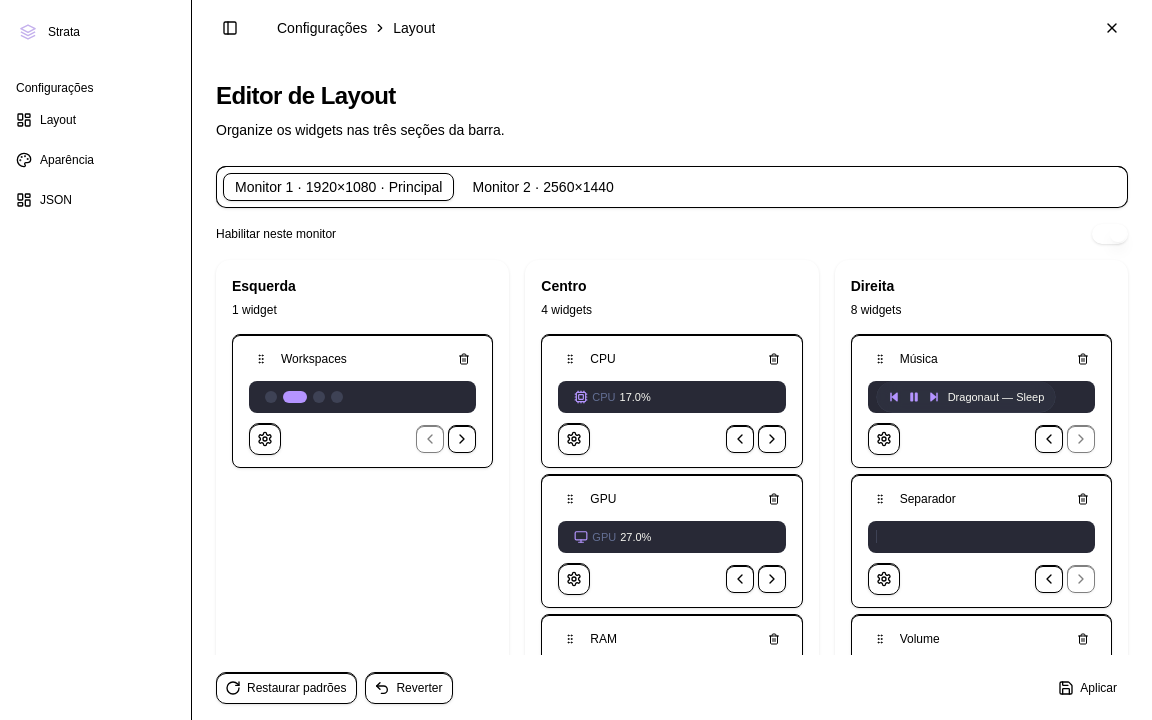
Test: shows a native rejection in the validation alert and blocks Apply until edited
Step 1. Click the button "Aplicar" → {"x": 1089, "y": 688}, box [1049, 672, 1128, 704]
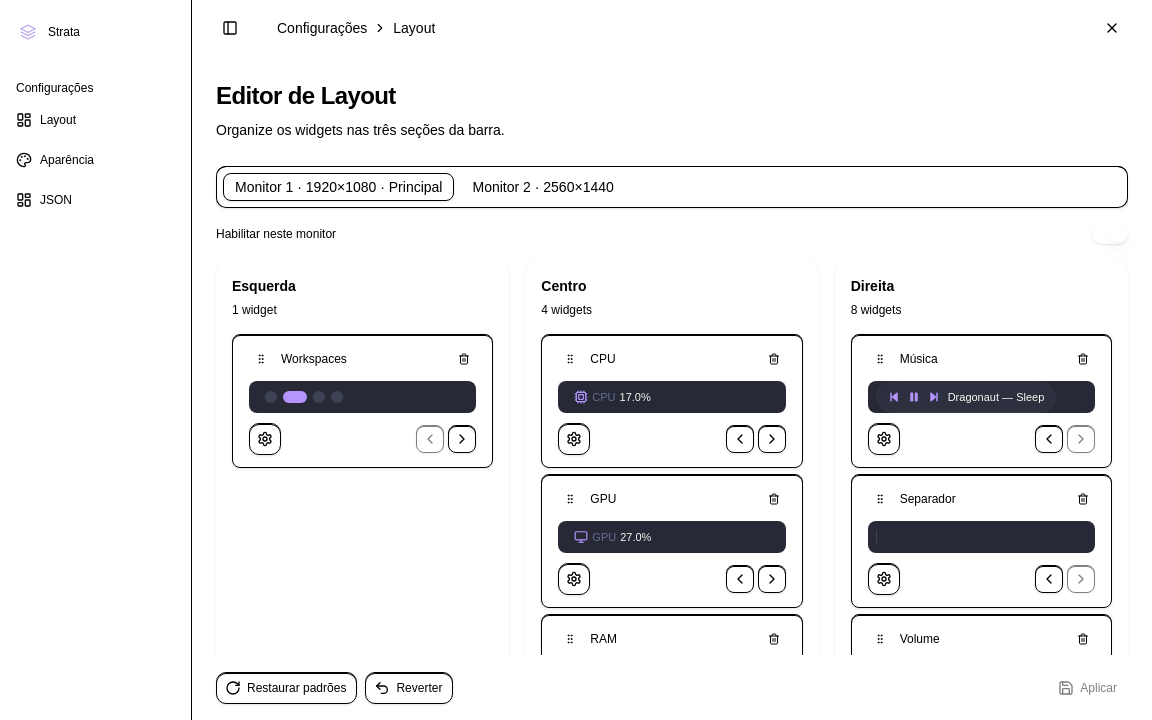
expect the button "Aplicar" is disabled: met, box [1049, 672, 1128, 704]
Step 2. Click the button "Aparência" → {"x": 96, "y": 160}, box [8, 144, 183, 176]
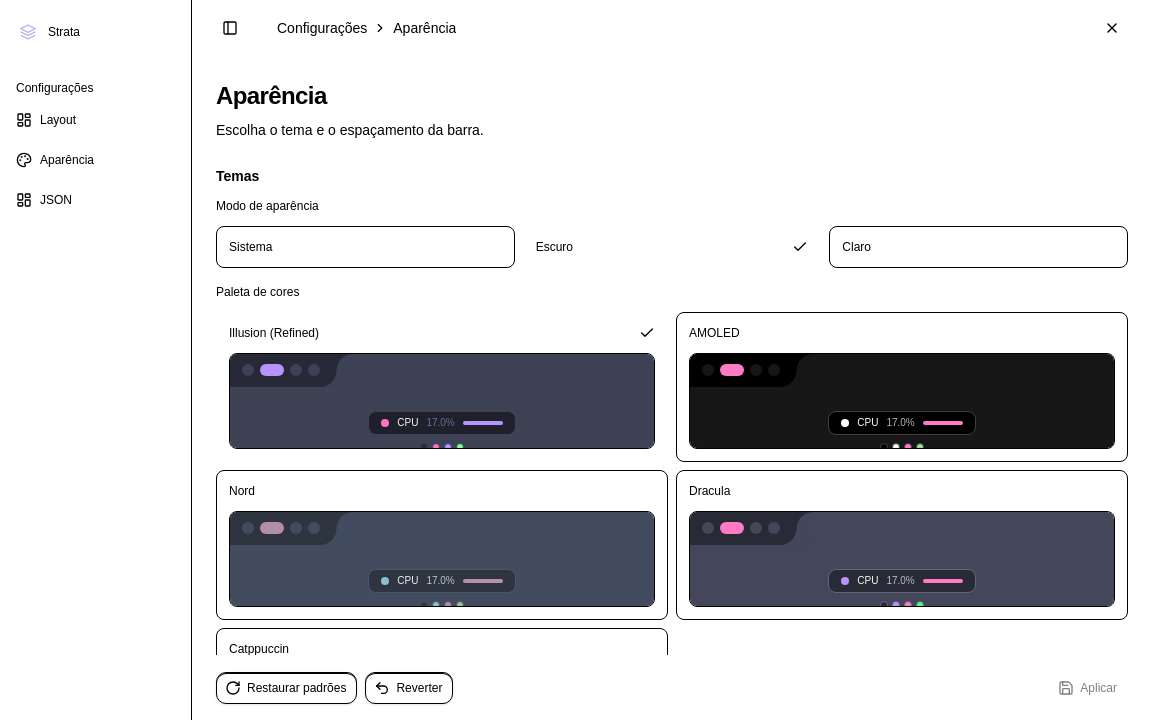
Step 3. Click the button "Claro" → {"x": 857, "y": 247}, box [829, 226, 1128, 268]
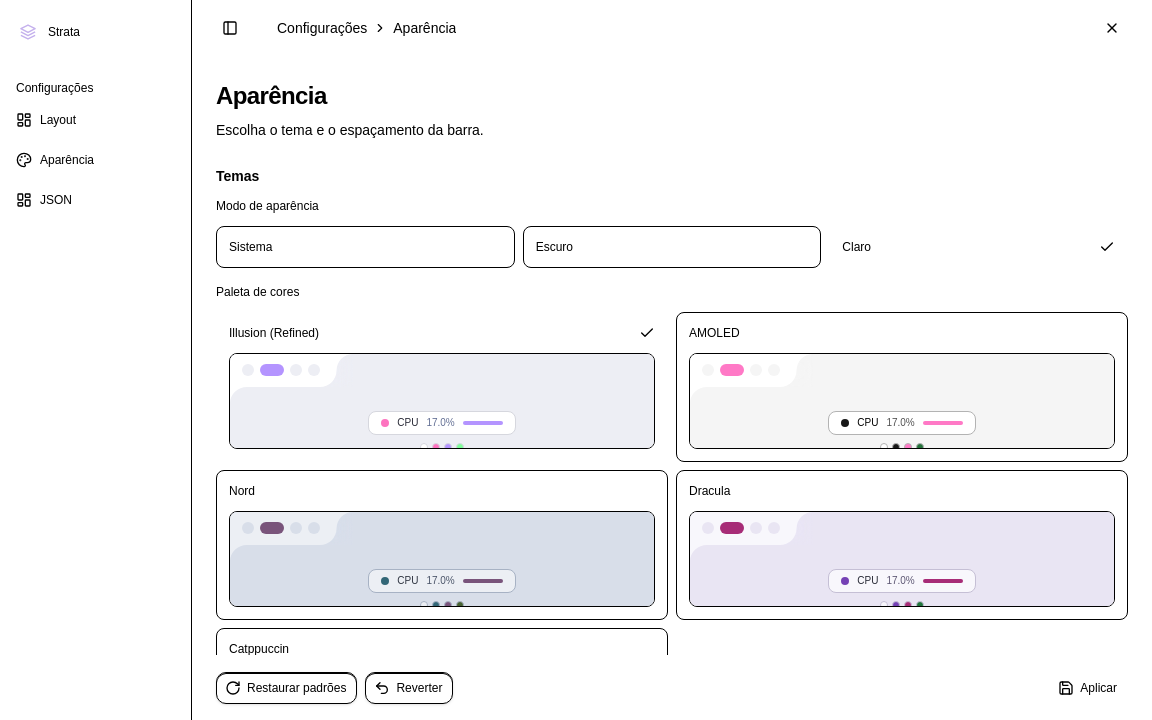
expect the button "Aplicar" is enabled: met, box [1049, 672, 1128, 704]
